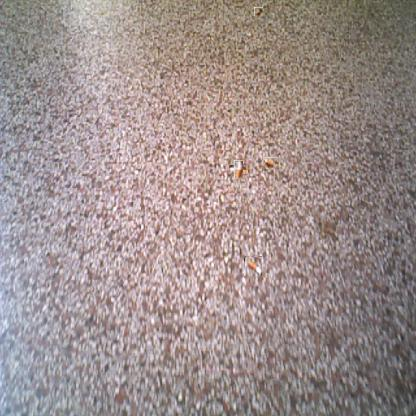dirty: (244, 256, 262, 276), (231, 162, 246, 177), (265, 157, 275, 168), (254, 7, 263, 16)
